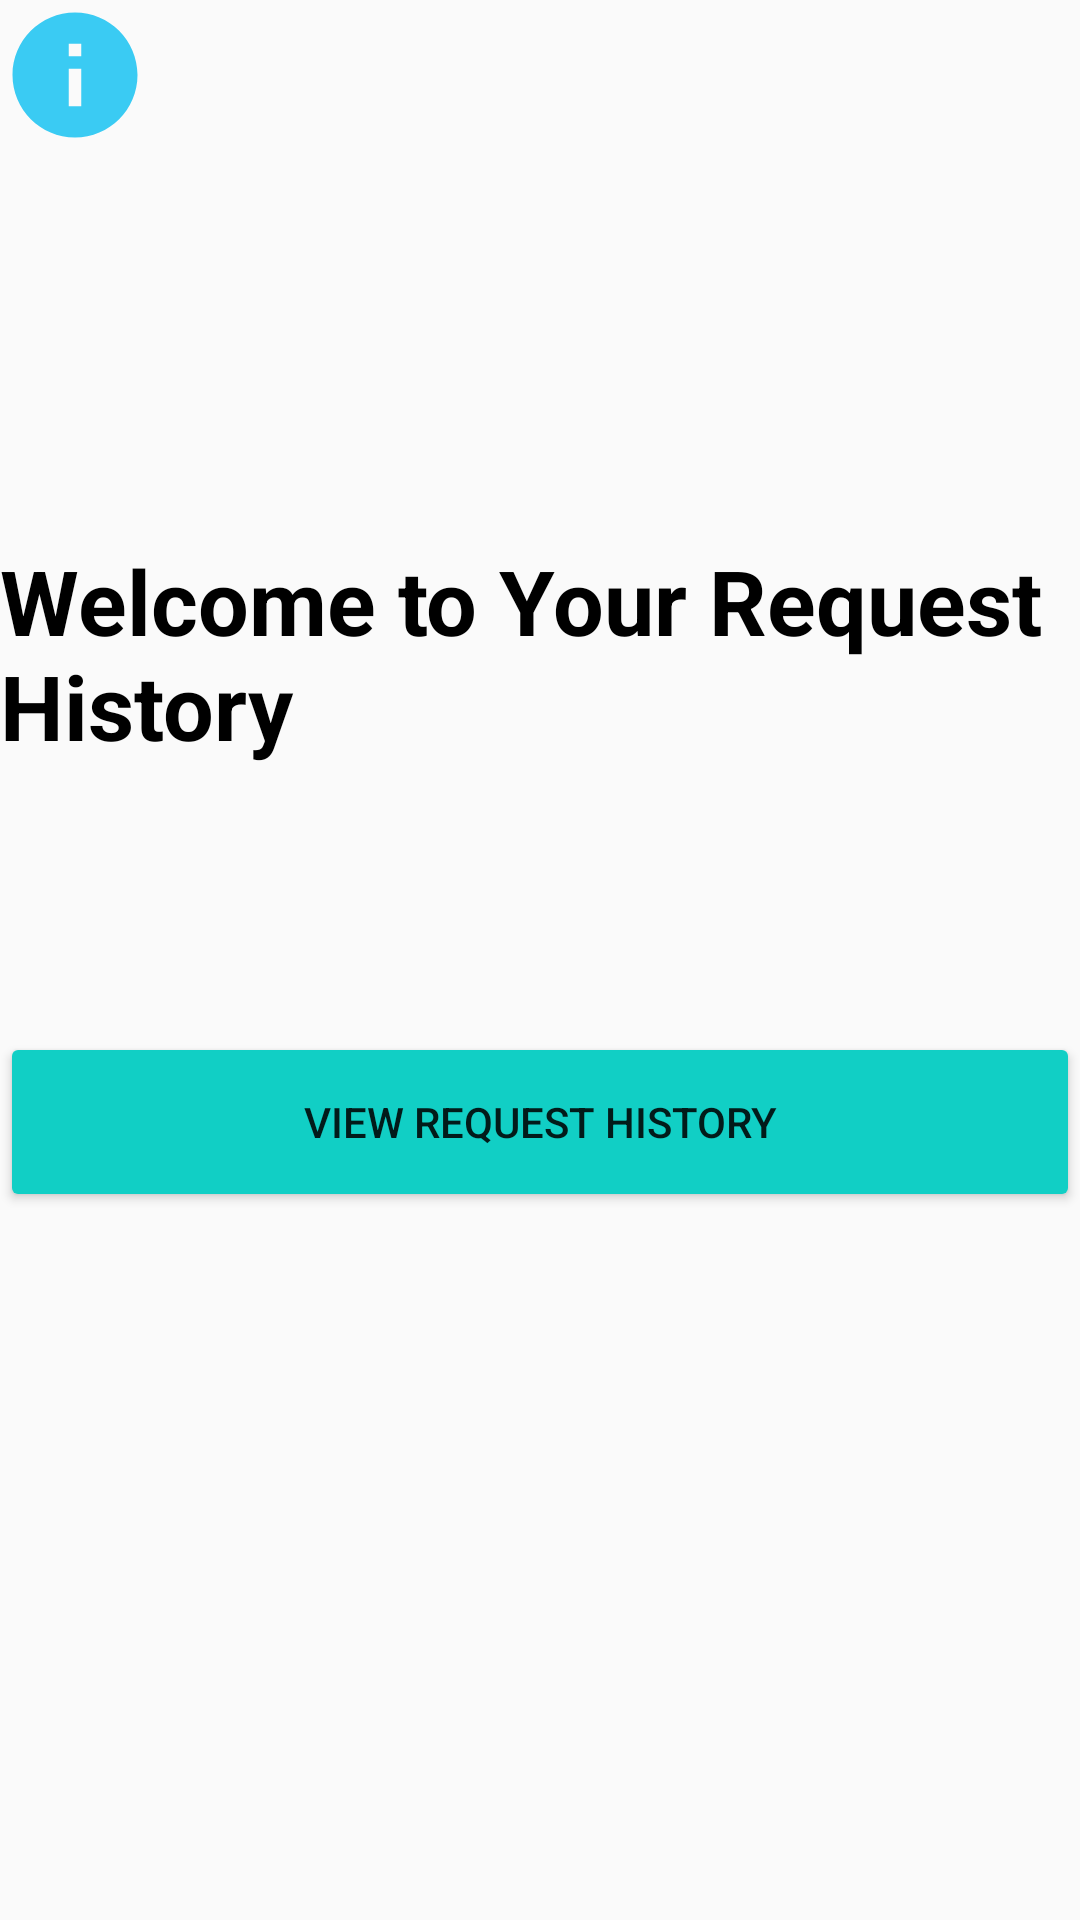

Icons on this 1080x1920 Android screen, each with its box as {"x1": x1, "y1": y1, "x2": x2, "y2": y2}:
about us: {"x1": 12, "y1": 12, "x2": 138, "y2": 138}
